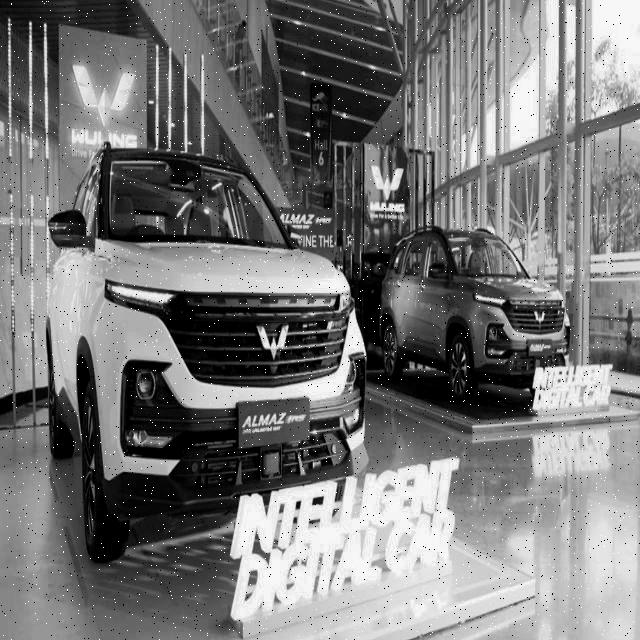Car: (43, 138, 369, 578), (375, 220, 587, 400)
